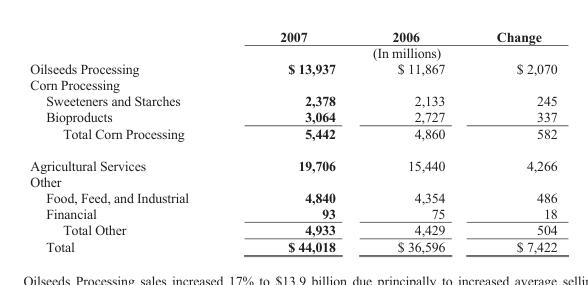table: (29, 28, 556, 254)
table column: (29, 28, 233, 254), (233, 28, 363, 254), (363, 28, 470, 254), (470, 28, 556, 254)
table column header: (29, 28, 556, 60)
table projected row header: (29, 76, 556, 92), (29, 173, 556, 189)
table row: (29, 125, 556, 149), (29, 149, 556, 173), (29, 108, 556, 125), (29, 221, 556, 238), (29, 28, 556, 44), (29, 44, 556, 60), (29, 60, 556, 76), (29, 76, 556, 92), (29, 92, 556, 108), (29, 173, 556, 189), (29, 189, 556, 205), (29, 205, 556, 221), (29, 238, 556, 254)
table spanning cell: (233, 44, 556, 60)
